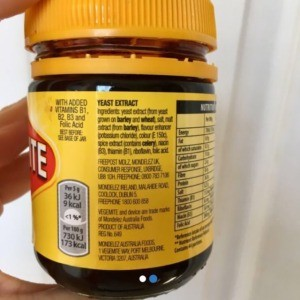yeast spread_brain food: (19, 64, 215, 229)
